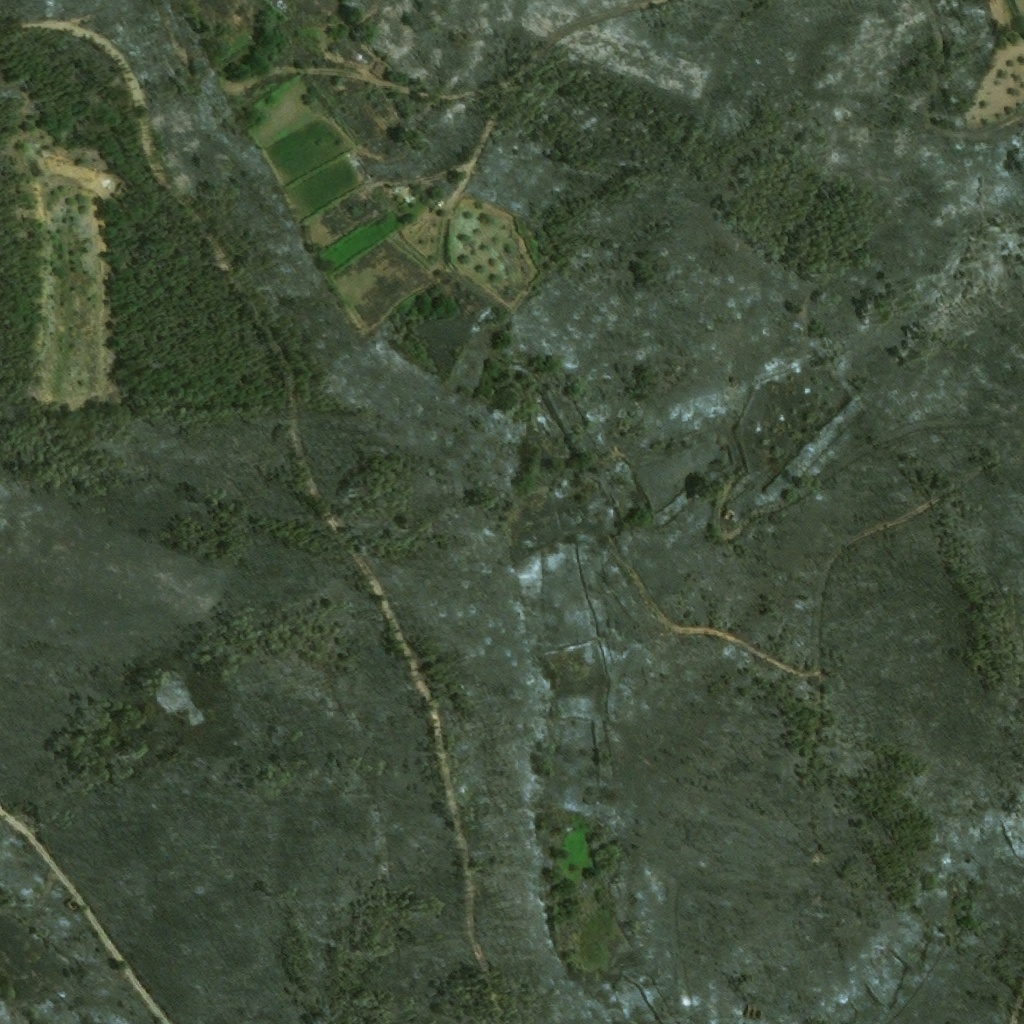0 no-damage: (438, 199, 447, 207)
